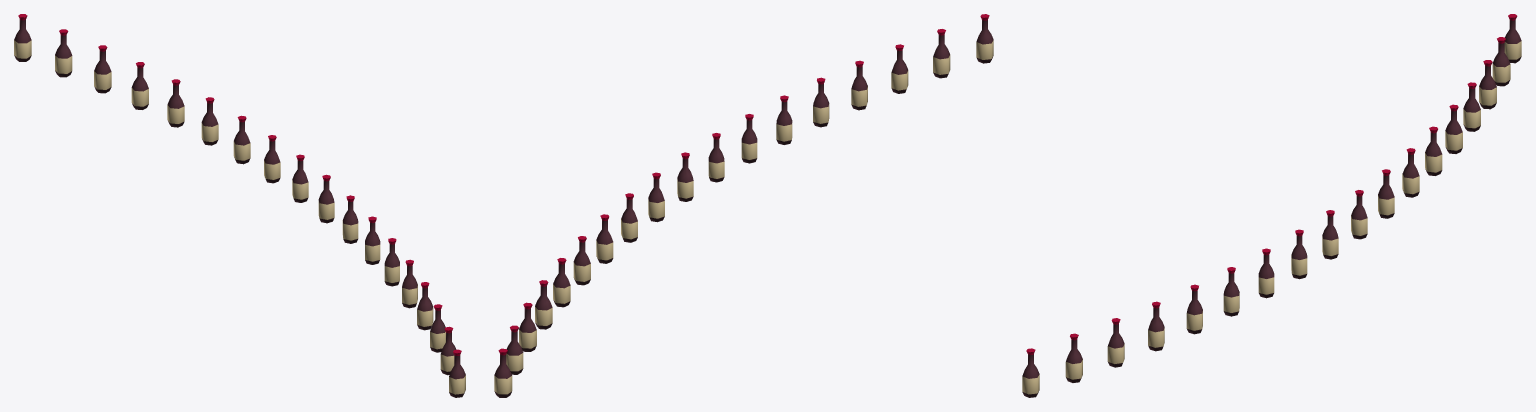
The model's file is bottles_top.glb.
The picture shows the model from 3 angles, left to right: view 1: azimuth 30°, elevation 25°; view 2: azimuth 150°, elevation 25°; view 3: azimuth 330°, elevation 25°; orthographic projection. The views are drawn at different scales.
Visible parts, largest first — view 1: bottles_top; view 2: bottles_top; view 3: bottles_top.
Part boxes in pixels (x1=…): bottles_top: x1=14, y1=14, x2=465, y2=397; bottles_top: x1=494, y1=14, x2=993, y2=397; bottles_top: x1=1022, y1=14, x2=1521, y2=397.
Bounding box in the file's own units: 1.47 × 0.6351 × 12.13.
2 materials, 2 textured.
